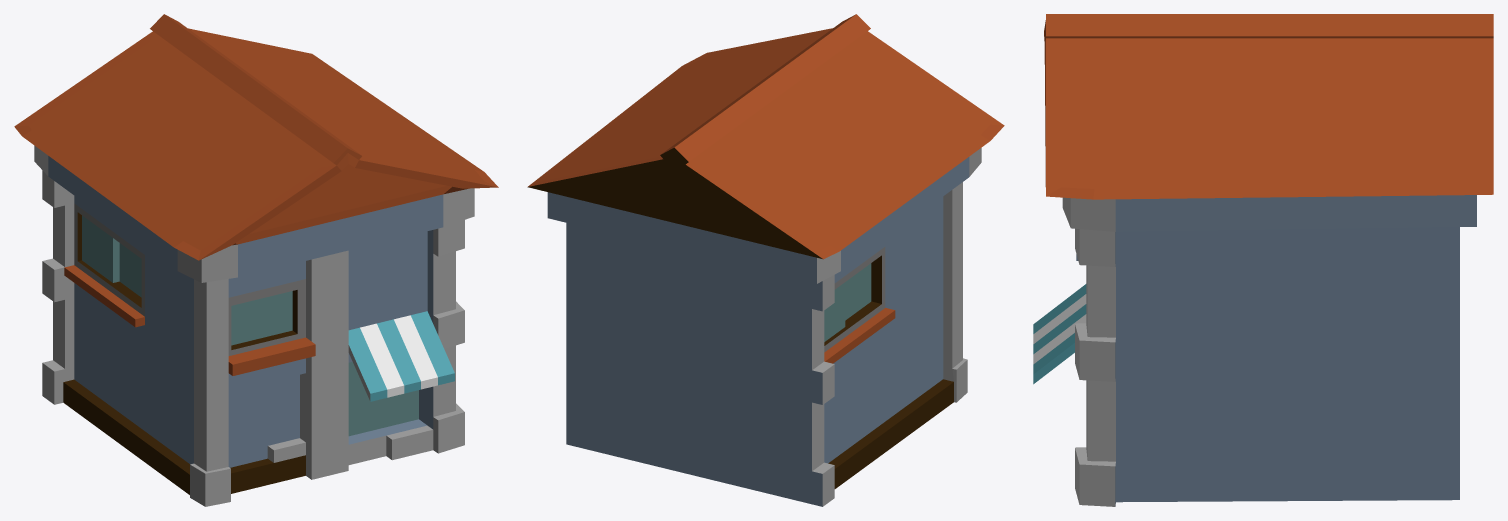
The model's file is RMK Modelo TOON Casinha Telhado 1.fbx.
The picture shows the model from 3 angles, left to right: view 1: azimuth 30°, elevation 25°; view 2: azimuth 150°, elevation 25°; view 3: azimuth 270°, elevation 25°; orthographic projection. The views are drawn at different scales.
Visible parts, largest first — view 1: Cube; view 2: Cube; view 3: Cube.
Part boxes in pixels (x1,y1,x2,y2): Cube: (14, 14, 498, 506); Cube: (527, 14, 1004, 506); Cube: (1033, 14, 1493, 506).
Size of the model in its own units: 254 by 265 by 267.
1 material, 1 textured.
